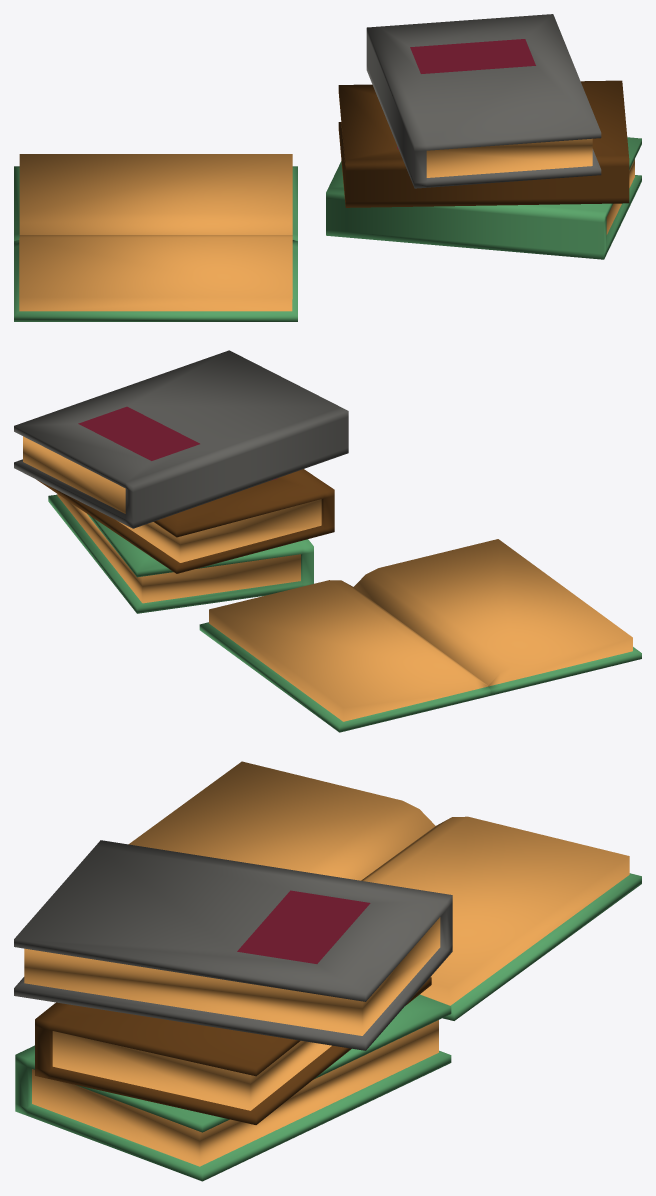
File: book_stack_b.glb
3 renders of one model, top to bottom at view 1: azimuth 30°, elevation 25°; view 2: azimuth 150°, elevation 25°; view 3: azimuth 270°, elevation 25°, orthographic. The views are drawn at different scales.
Parts seen in each view (by area): view 1: book_stack_b; view 2: book_stack_b; view 3: book_stack_b.
Boxes of the visible parts, x1,y1,x2,y2 form: book_stack_b: (14,14,641,321); book_stack_b: (14,350,641,732); book_stack_b: (14,761,641,1181).
Bounding box in the file's own units: 1.44 × 0.2869 × 0.9606.
Materials: 1 (1 with a texture image).
